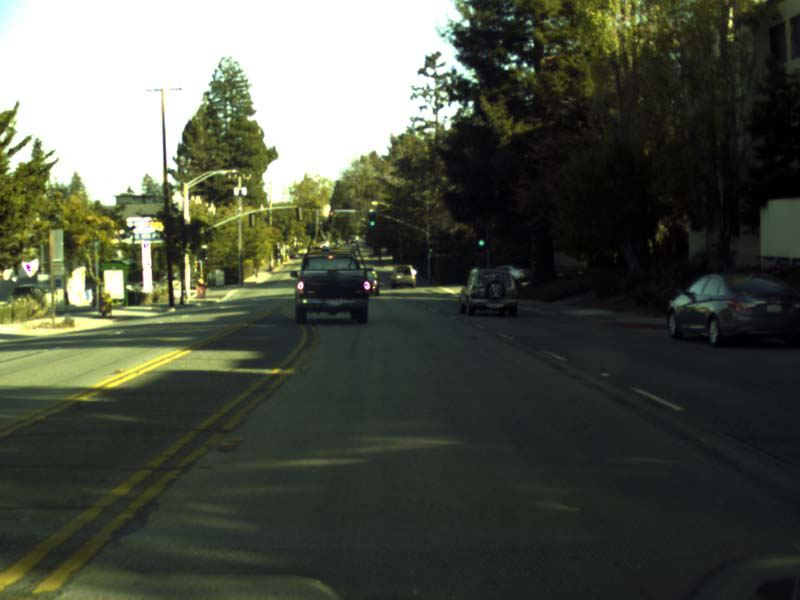Green: (368, 212, 377, 227), (477, 238, 485, 247), (427, 242, 433, 253)
Red: (328, 211, 334, 216)
